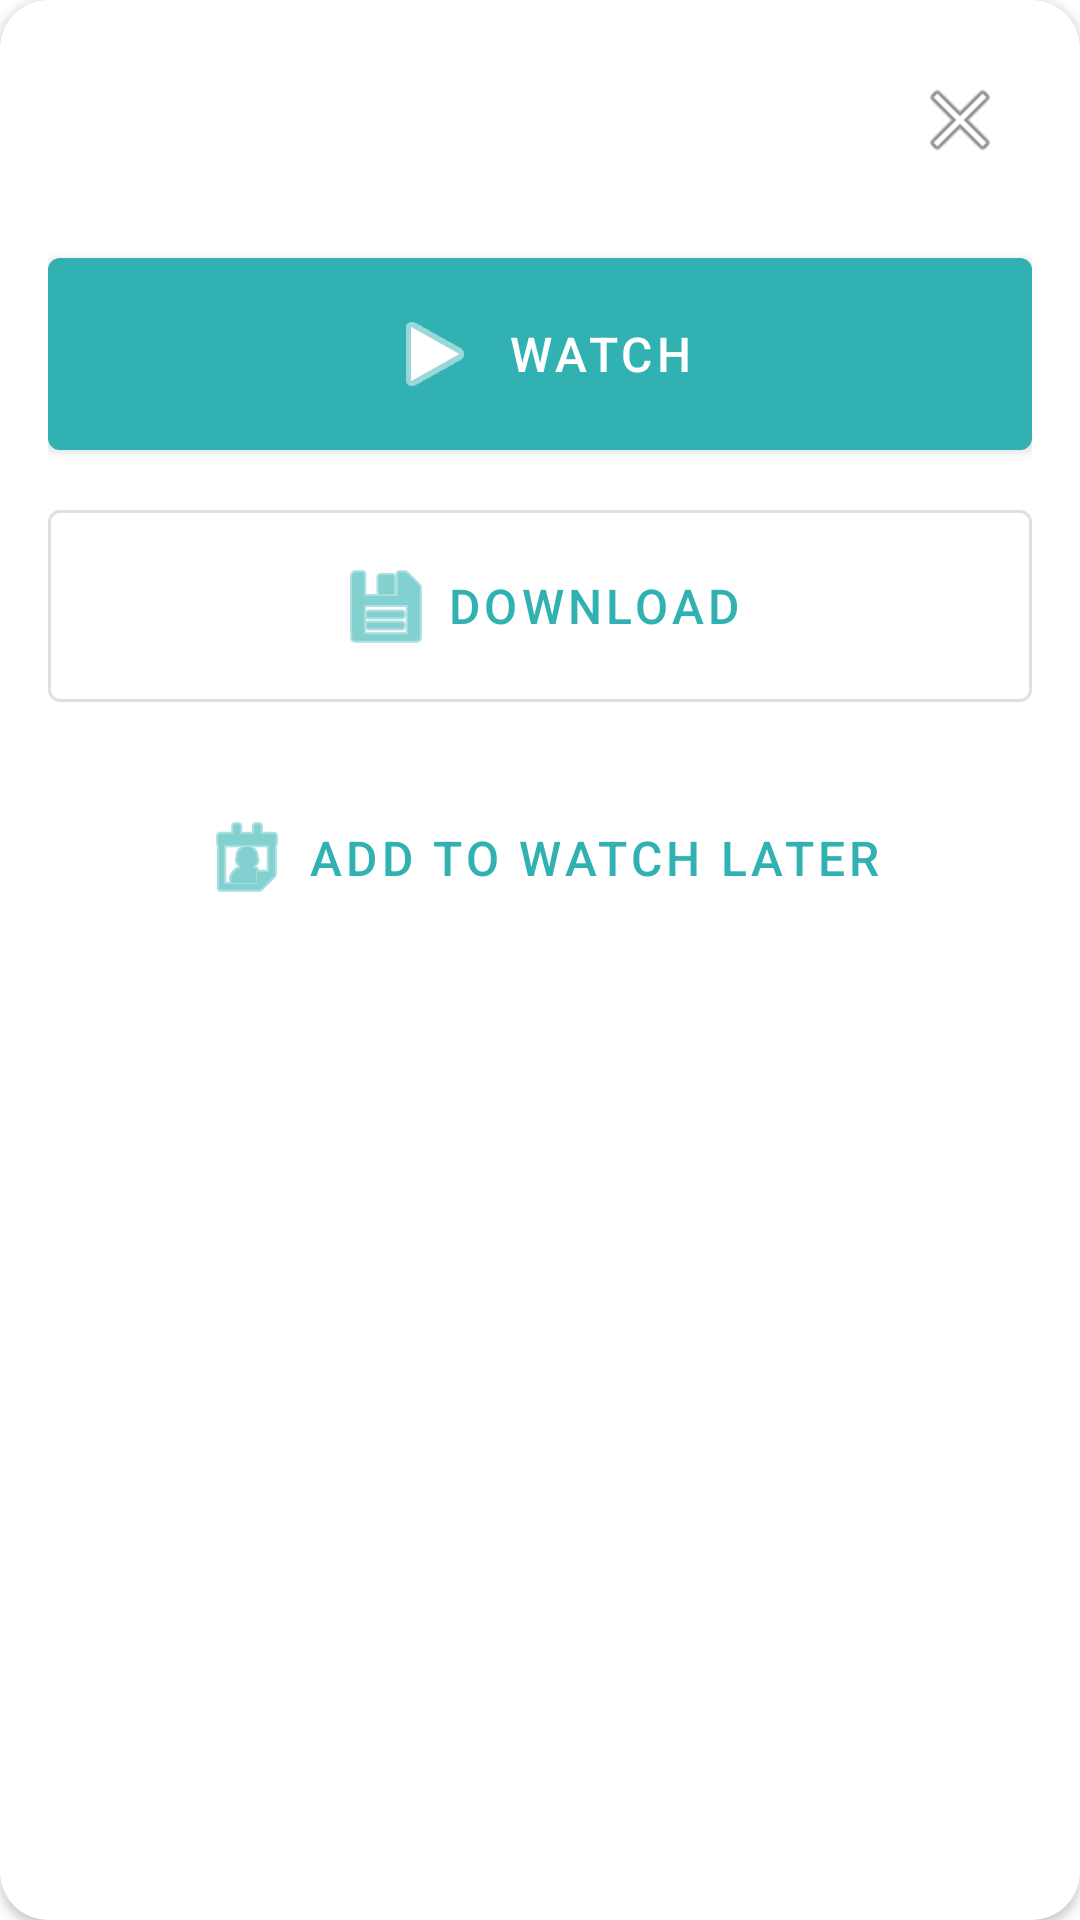

Icons on this 1080×1920 Android screen, each with its box as rect(x1, y1, x2, y2):
Close dialog: rect(930, 90, 990, 150)
